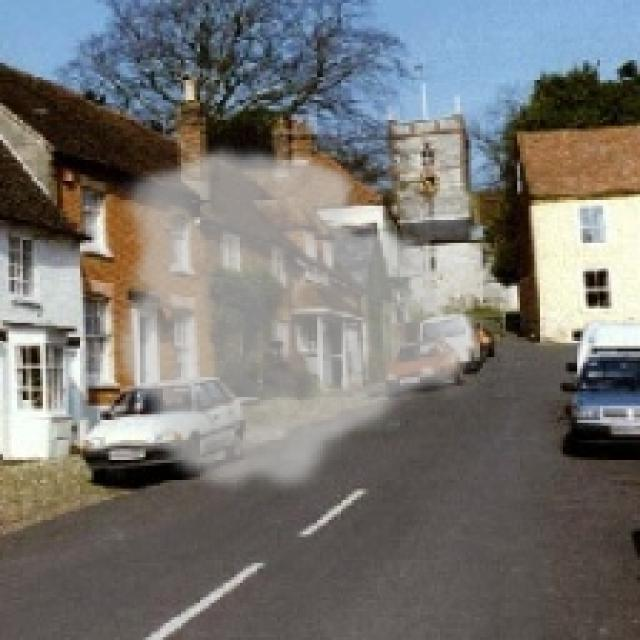Smoke: (111, 143, 492, 500)
